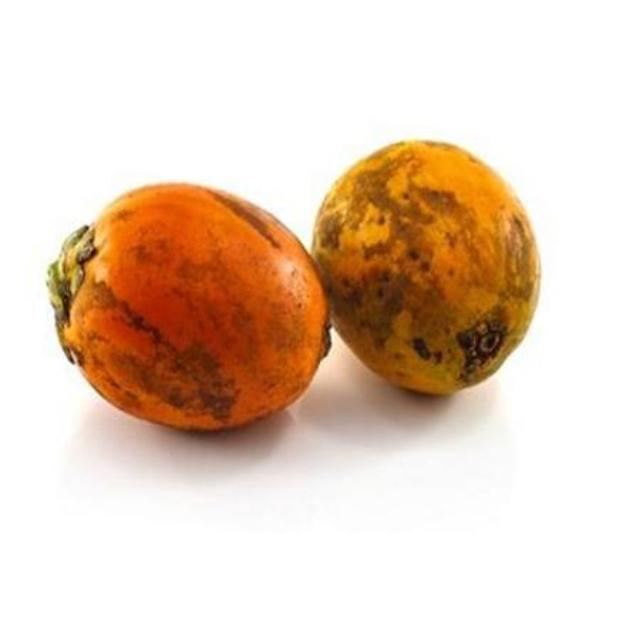good: (47, 184, 331, 434), (307, 141, 543, 399)
